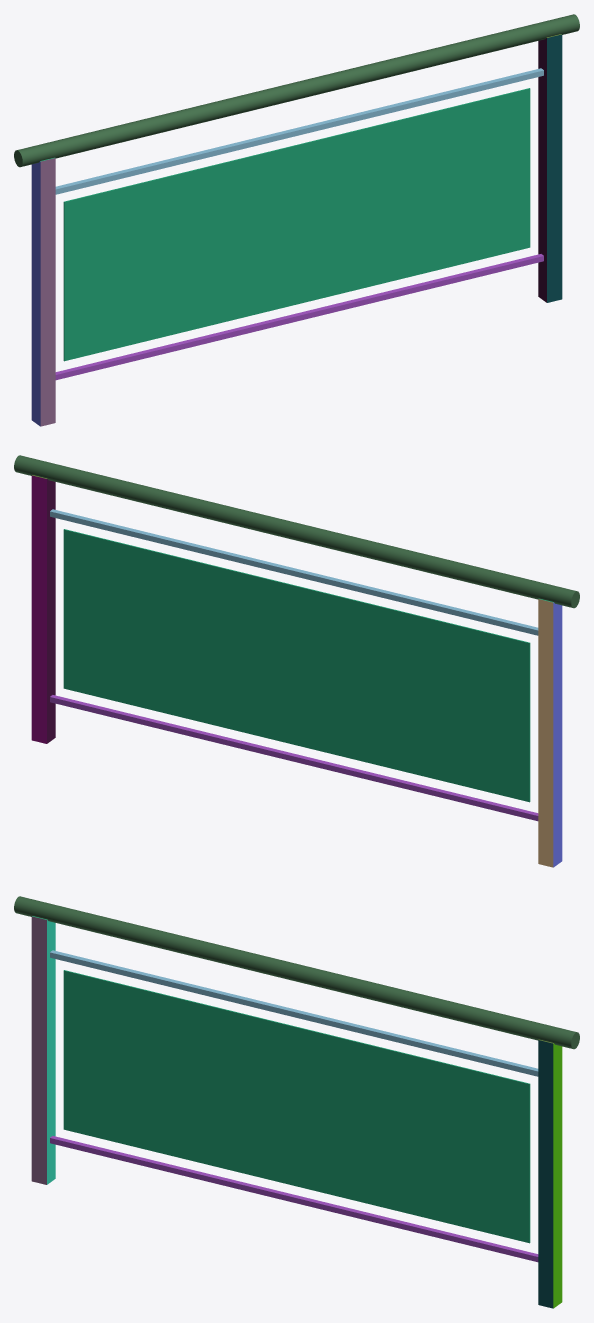
The model's file is generic_fence02.fbx.
3 renders of one model, top to bottom at view 1: azimuth 30°, elevation 25°; view 2: azimuth 150°, elevation 25°; view 3: azimuth 330°, elevation 25°, orthographic.
Parts seen in each view (by area): view 1: Fence; view 2: Fence; view 3: Fence.
Boxes of the visible parts, x1,y1,x2,y2 form: Fence: [14, 14, 579, 426]; Fence: [14, 455, 579, 867]; Fence: [14, 896, 579, 1308].
Size of the model in its own units: 220 by 6 by 104.
